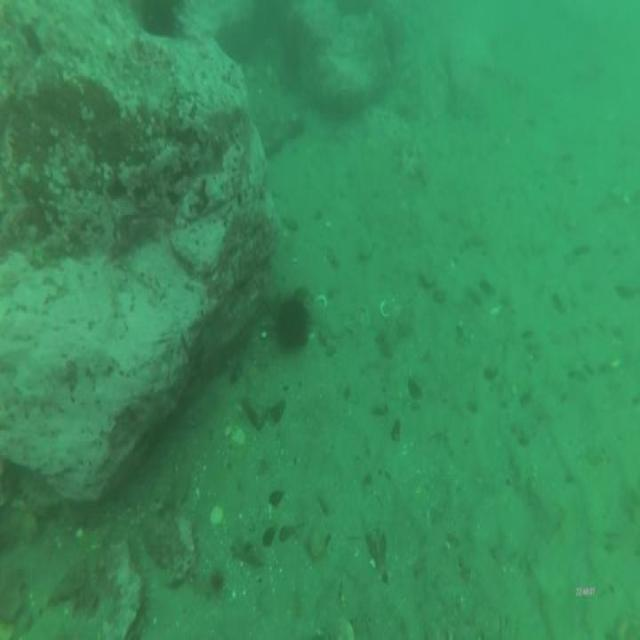echinus: (272, 294, 313, 357), (136, 0, 184, 44)
holothurian: (49, 534, 142, 639), (140, 501, 199, 593), (15, 468, 62, 526)
